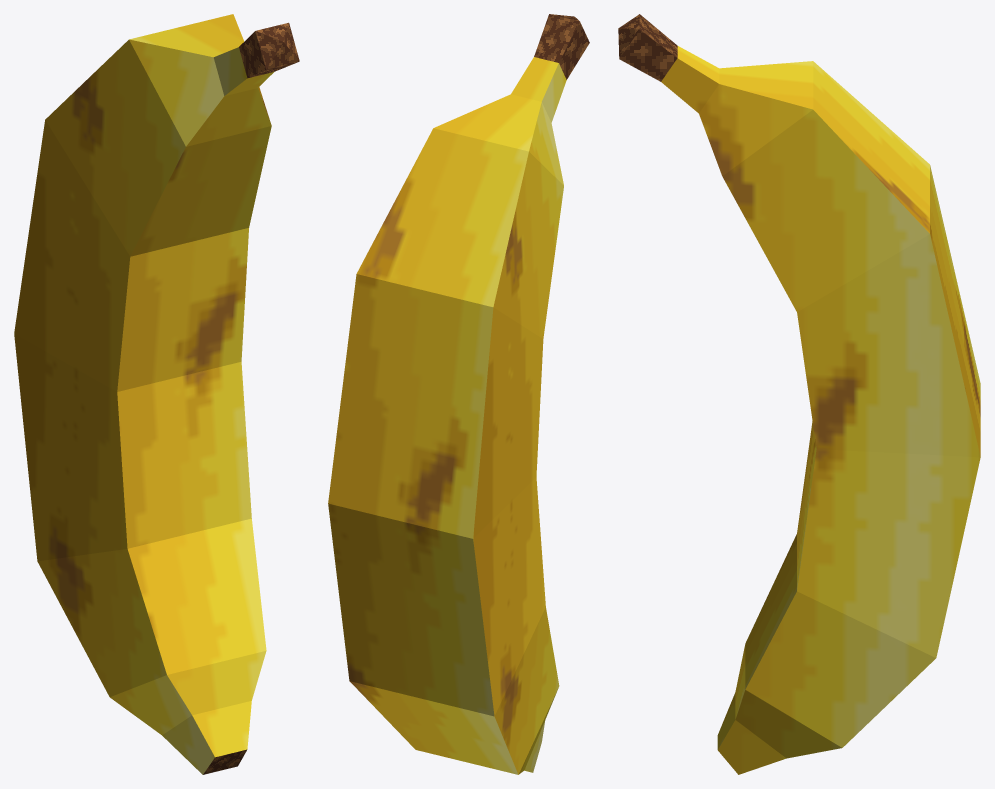
File: banana.fbx
The picture shows the model from 3 angles, left to right: view 1: azimuth 30°, elevation 25°; view 2: azimuth 150°, elevation 25°; view 3: azimuth 270°, elevation 25°; orthographic projection. The views are drawn at different scales.
Parts seen in each view (by area): view 1: Banana; view 2: Banana; view 3: Banana.
Boxes of the visible parts, bbox=[...] form: Banana: bbox=[14, 14, 299, 774]; Banana: bbox=[328, 14, 589, 774]; Banana: bbox=[618, 14, 980, 774].
Size of the model in its own units: 147 by 692 by 305.
